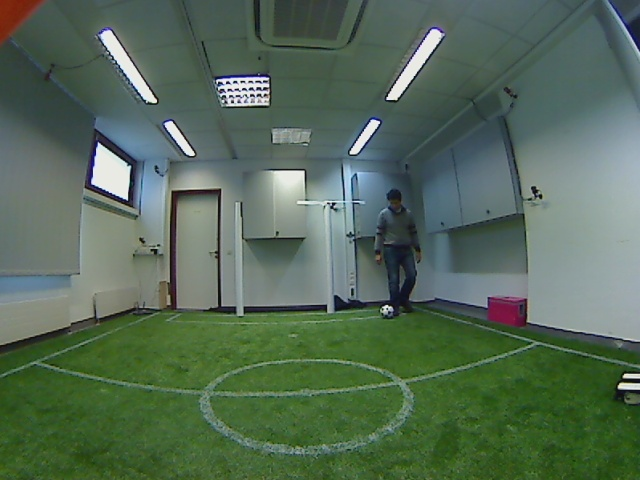ball: (378, 301, 395, 322)
